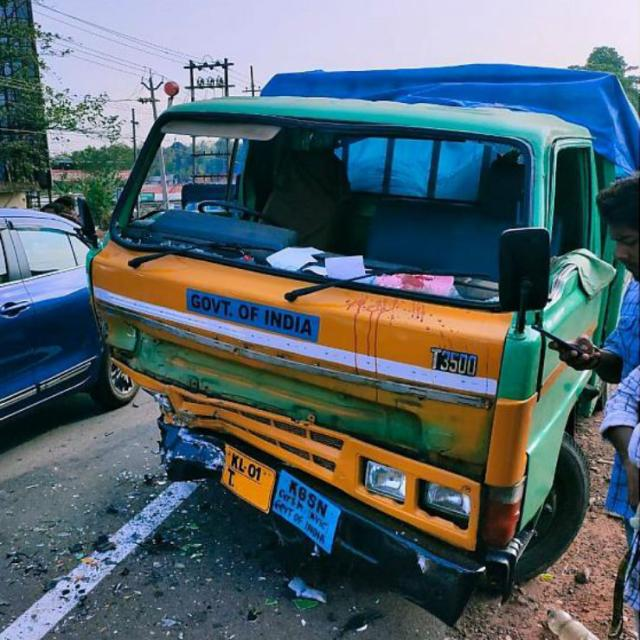accident: (90, 65, 640, 621)
